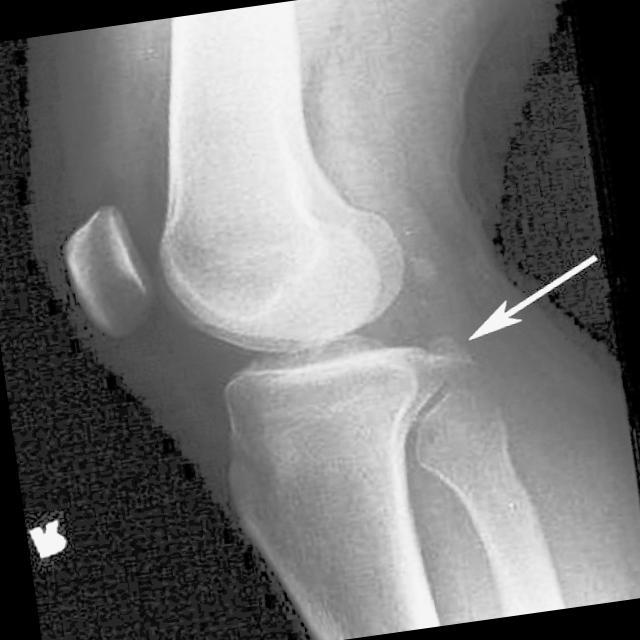Avlusion Fracture: (424, 331, 471, 369)
